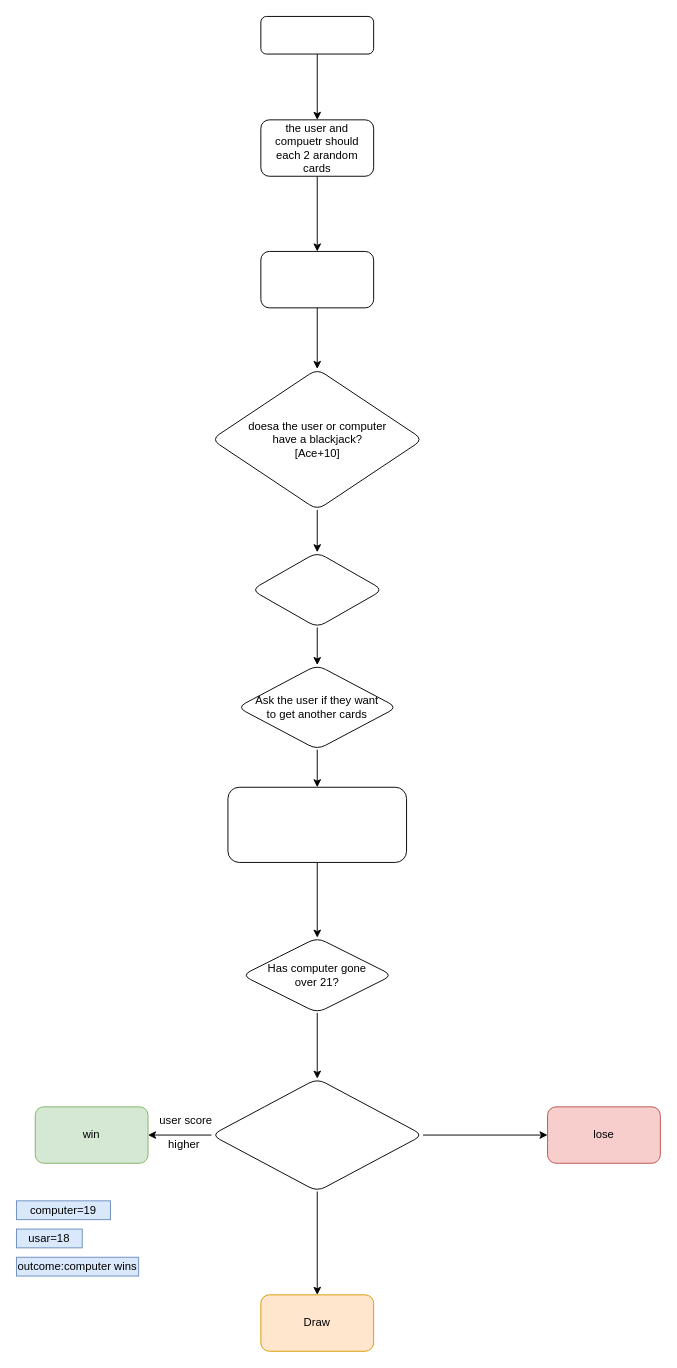
This 677x1368 diagram has some shape labels left out. The shapes that lost their labels are listed below. From the top down, each one's centre as x and y in pixels, then its label:
At point (317, 35): "start".
At point (317, 279): "add up the user and the computer scores".
At point (317, 589): "is user score over21?".
At point (317, 824): "computer plays it score is less than 16 keep drawing cards".
At point (317, 1134): "computer user scor with computer score to see if user score is higher?".
